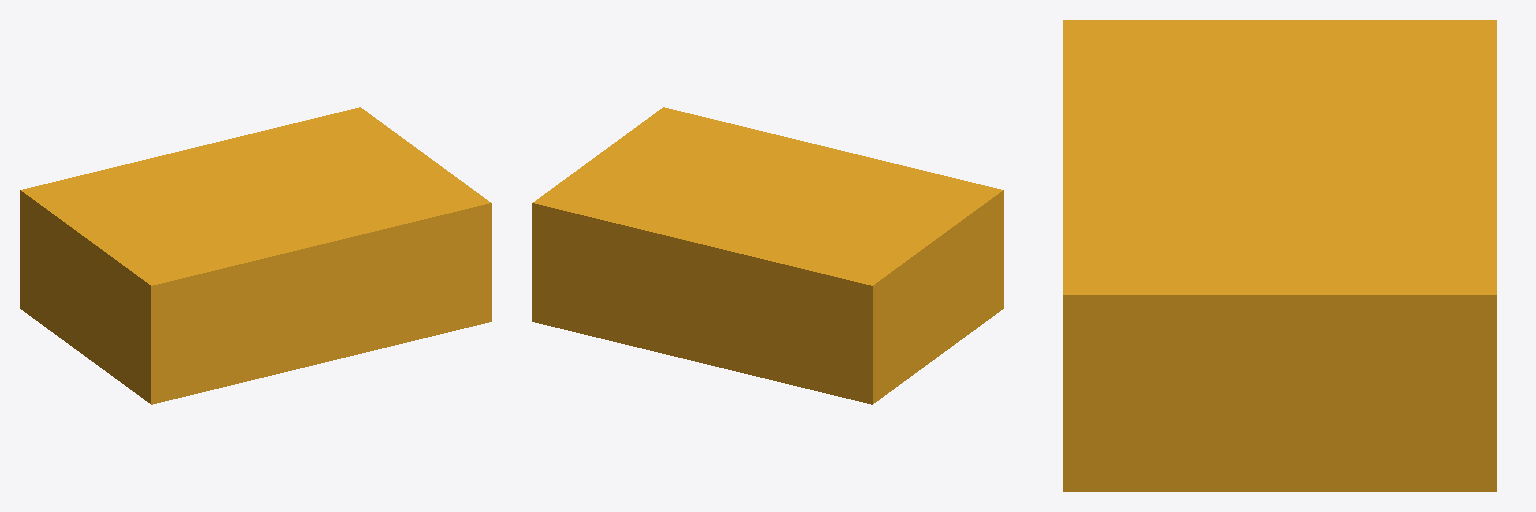
The robot description file, URDF, robot "trapezoid":
<?xml version='1.0' encoding='UTF-8'?>
<robot name="trapezoid">
  <link name="base_link">
    <inertial>
      <origin xyz="0.0 0.0 0.0" rpy="0.0 -0.0 0.0"/>
      <mass value="1.0"/>
      <inertia ixx="1.0" ixy="0.0" ixz="0.0" iyy="1.0" iyz="0.0" izz="1.0"/>
    </inertial>
    <visual name="base_link_visual">
      <geometry>
        <box size="0.952 0.635 0.318"/>
      </geometry>
      <origin xyz="0 0 0" rpy="0 0 0"/>
      <material name="object_color">
        <color rgba="0.95 0.7 0.2 1"/>
      </material>
    </visual>
    <collision name="base_link_collision">
      <geometry>
        <box size="0.952 0.635 0.318"/>
      </geometry>
      <origin xyz="0 0 0" rpy="0 0 0"/>
    </collision>
  </link>
</robot> 

--- Render facts (derived) ---
3 views of the same robot in one strip: view 1: azimuth 30°, elevation 25°; view 2: azimuth 150°, elevation 25°; view 3: azimuth 270°, elevation 25° (orthographic).
Robot: trapezoid — 1 links, 0 joints (none); root link base_link; default pose: every joint at zero.
Links seen in each view (by area): view 1: base_link; view 2: base_link; view 3: base_link.
Link boxes in pixels (left/top/right/bottom): base_link: left=20, top=107, right=491, bottom=404; base_link: left=532, top=107, right=1003, bottom=404; base_link: left=1063, top=20, right=1496, bottom=491.
Bounding box of the posed robot: 0.952 × 0.635 × 0.318 m (x, y, z).
Geometry: primitives only (box / cylinder / sphere), no mesh files.
